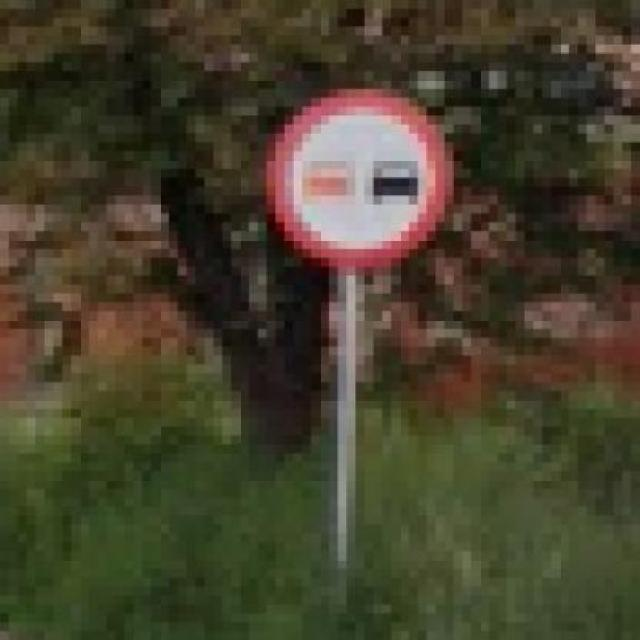Zakaz wyprzedzania: (262, 89, 449, 276)
